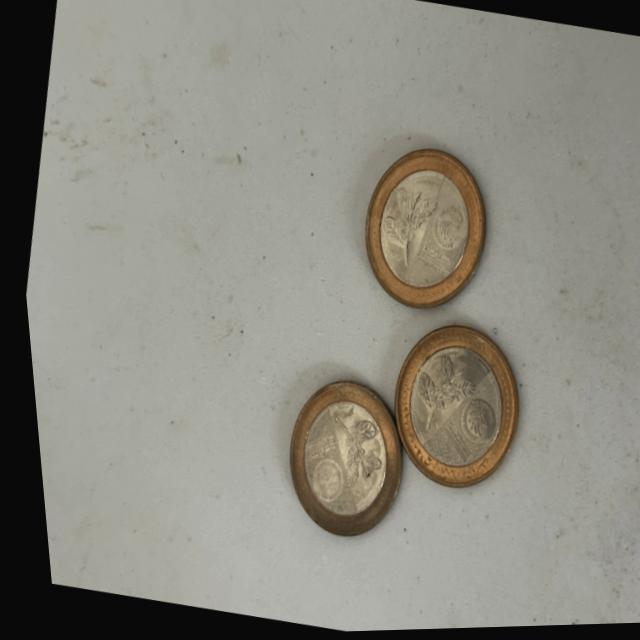20_New_Back: (361, 184, 441, 282), (308, 405, 388, 503), (391, 355, 475, 446)
